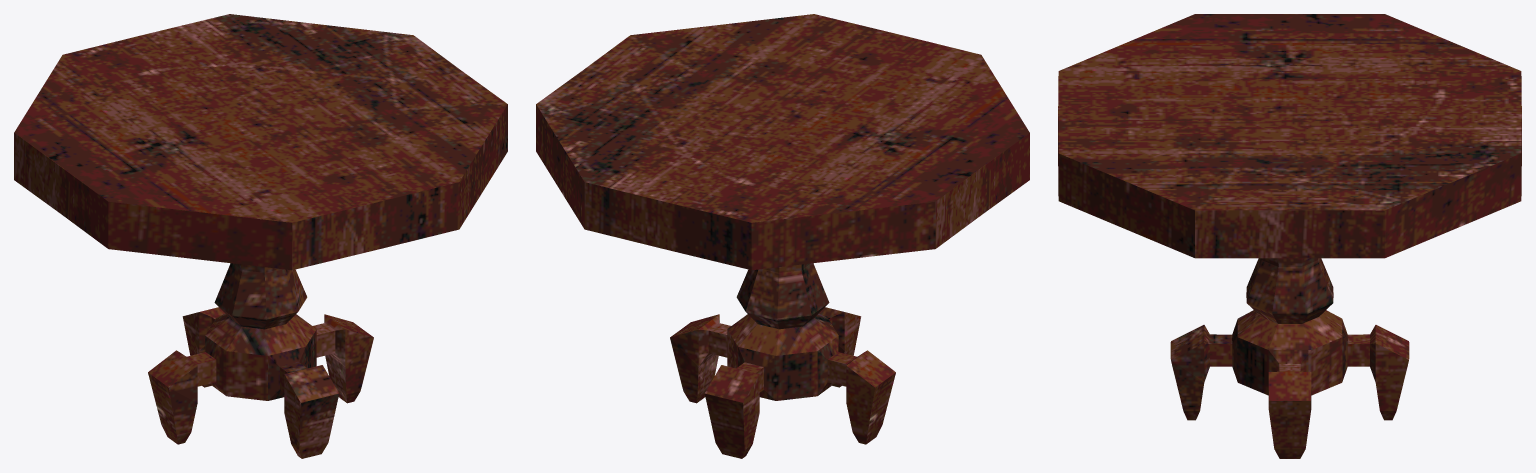
Rendered from toptable.fbx.
3 views of the same model, side by side, from view 1: azimuth 30°, elevation 25°; view 2: azimuth 150°, elevation 25°; view 3: azimuth 270°, elevation 25° (orthographic).
Visible parts, largest first — view 1: toptable; view 2: toptable; view 3: toptable.
Part boxes in pixels (x1=…): toptable: x1=14, y1=14, x2=507, y2=458; toptable: x1=536, y1=14, x2=1029, y2=458; toptable: x1=1058, y1=14, x2=1521, y2=458.
Bounding box in the file's own units: 139 × 100 × 139.
